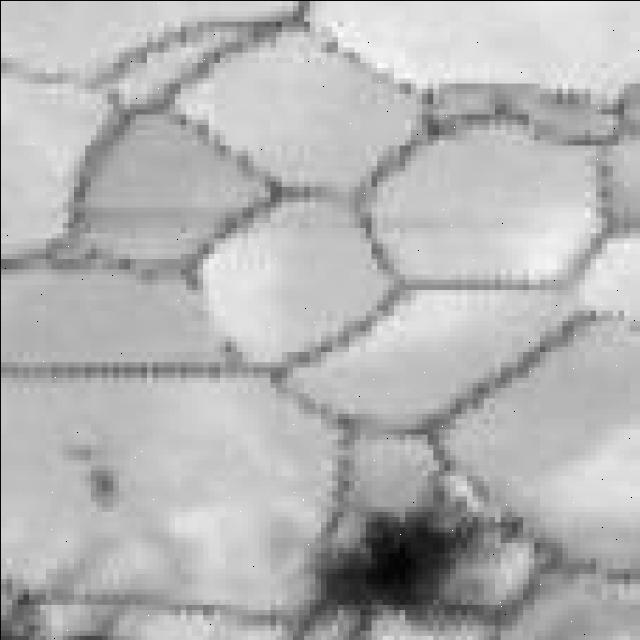good_void: (308, 503, 526, 623), (84, 466, 119, 508)
